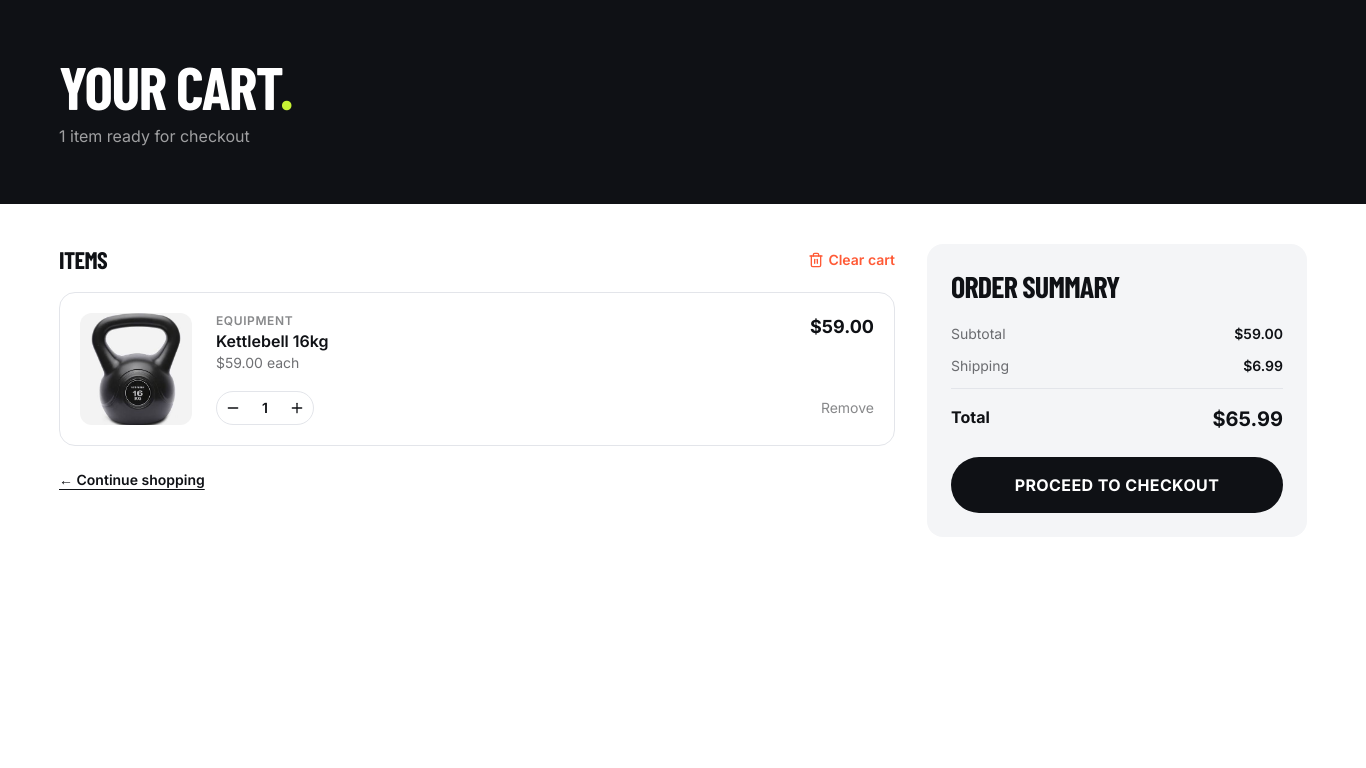
it: Shopping cart › increases, decreases and removes quantities
The width and height of the screenshot is (1366, 768).
Click the button named "Increase quantity": [297, 408] box x1=281 y1=392 x2=313 y2=424
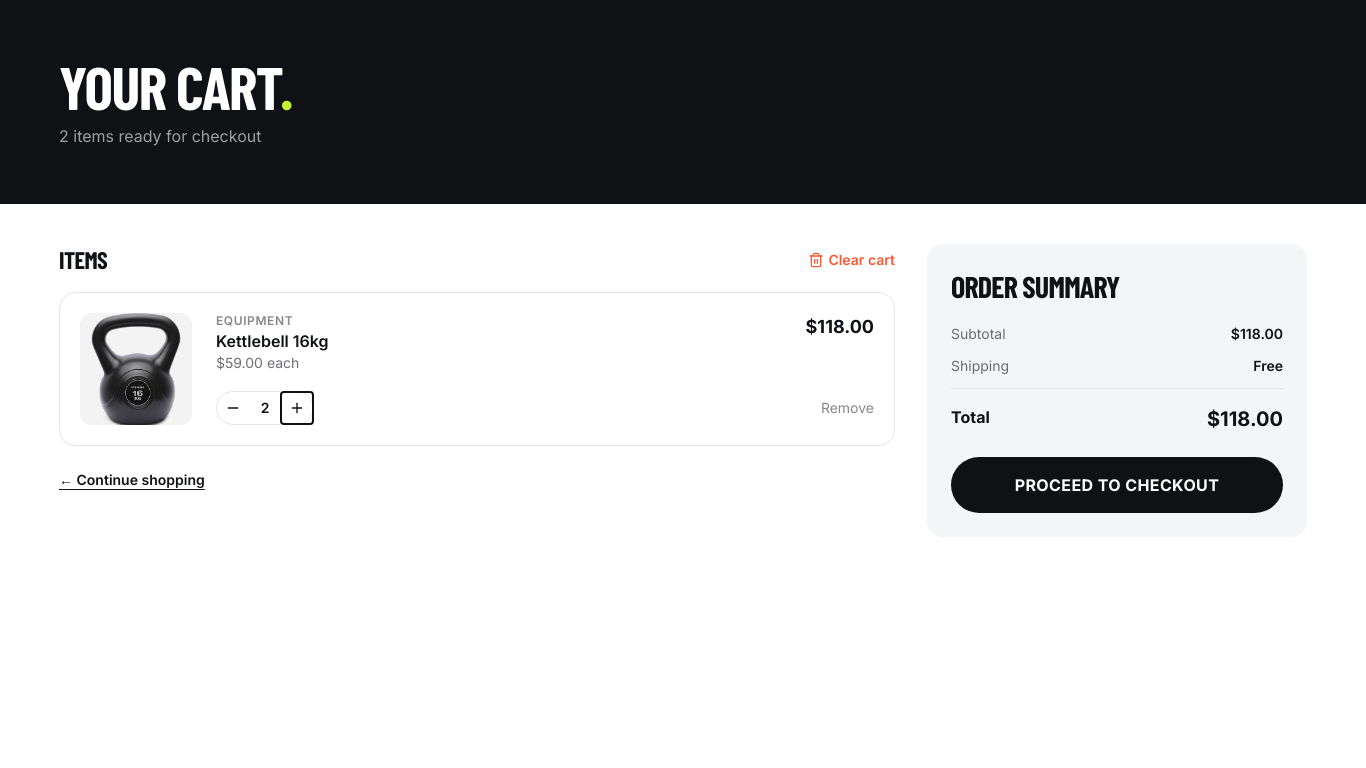
Expected: the text "2" is shown, x1=261 y1=399 x2=269 y2=416
Click the button named "Decrease quantity": [233, 408] box x1=217 y1=392 x2=249 y2=424
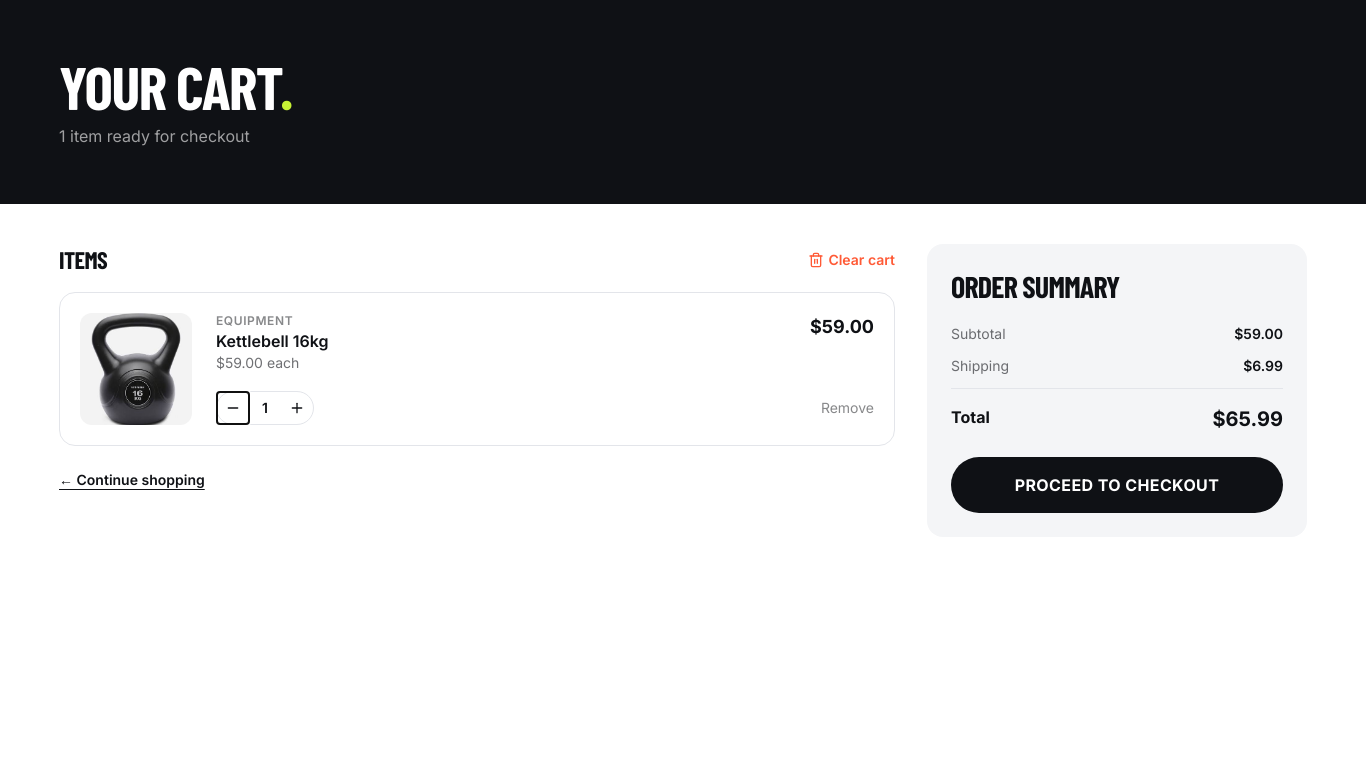
Click the button named "Decrease quantity": [233, 408] box x1=217 y1=392 x2=249 y2=424
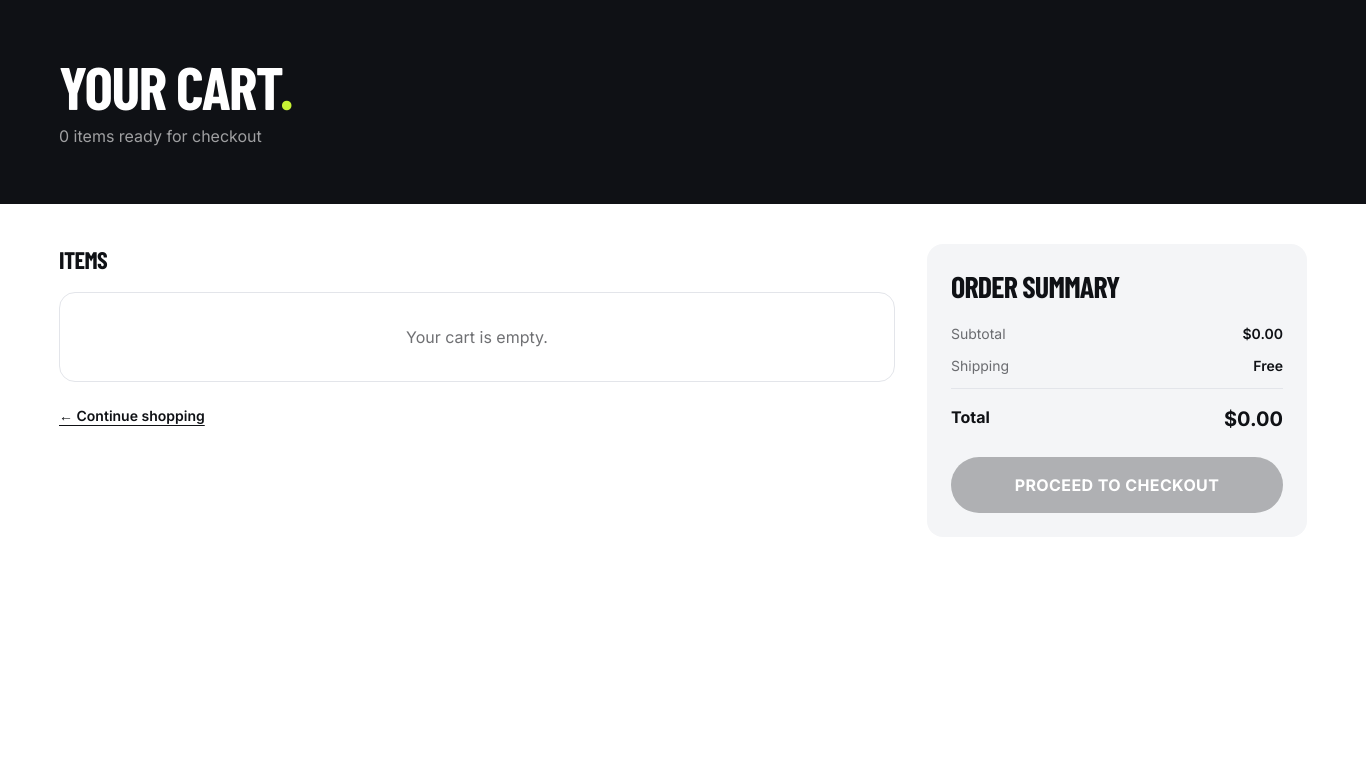
Expected: the text "Your cart is empty." is shown, x1=59 y1=292 x2=895 y2=382
